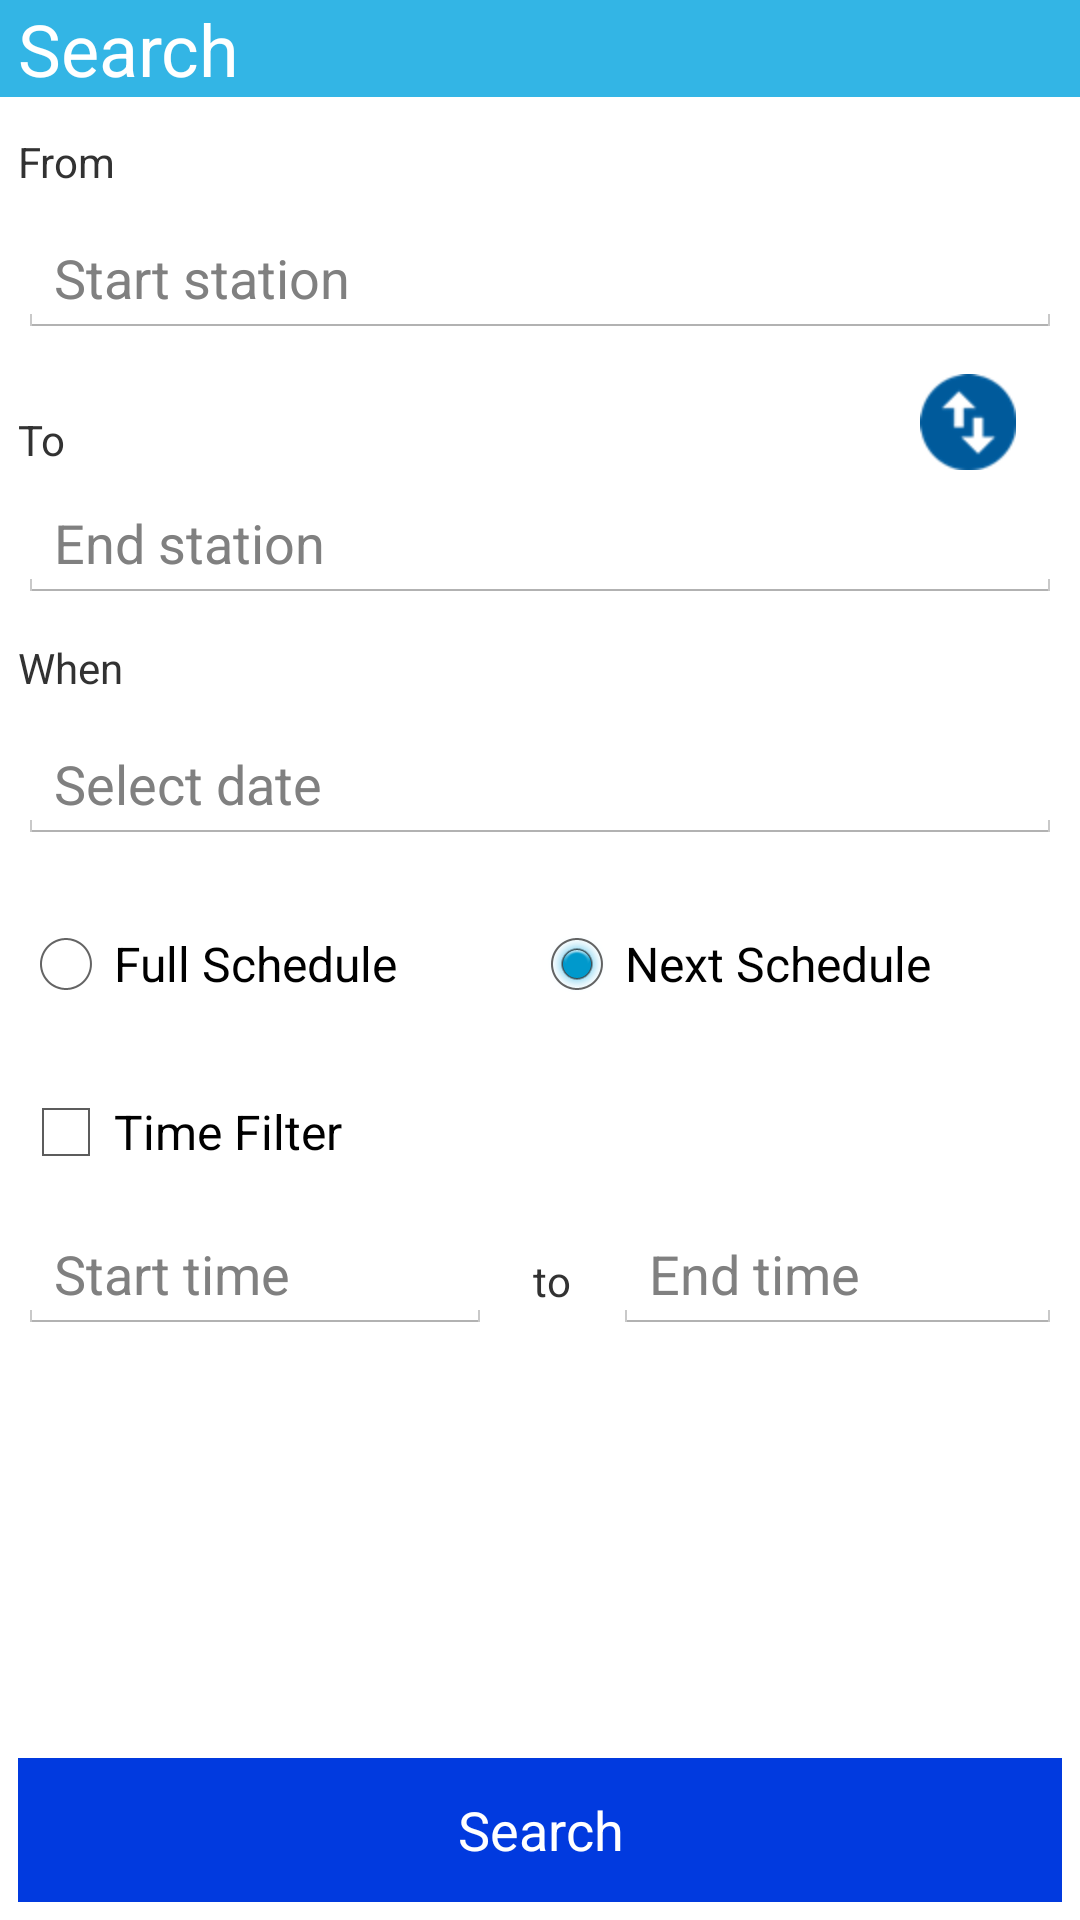

Where icons sit on this 1080 × 1920 app screen, as box=[x1, y1, x2, y2]:
swap: box=[920, 374, 1016, 470]
